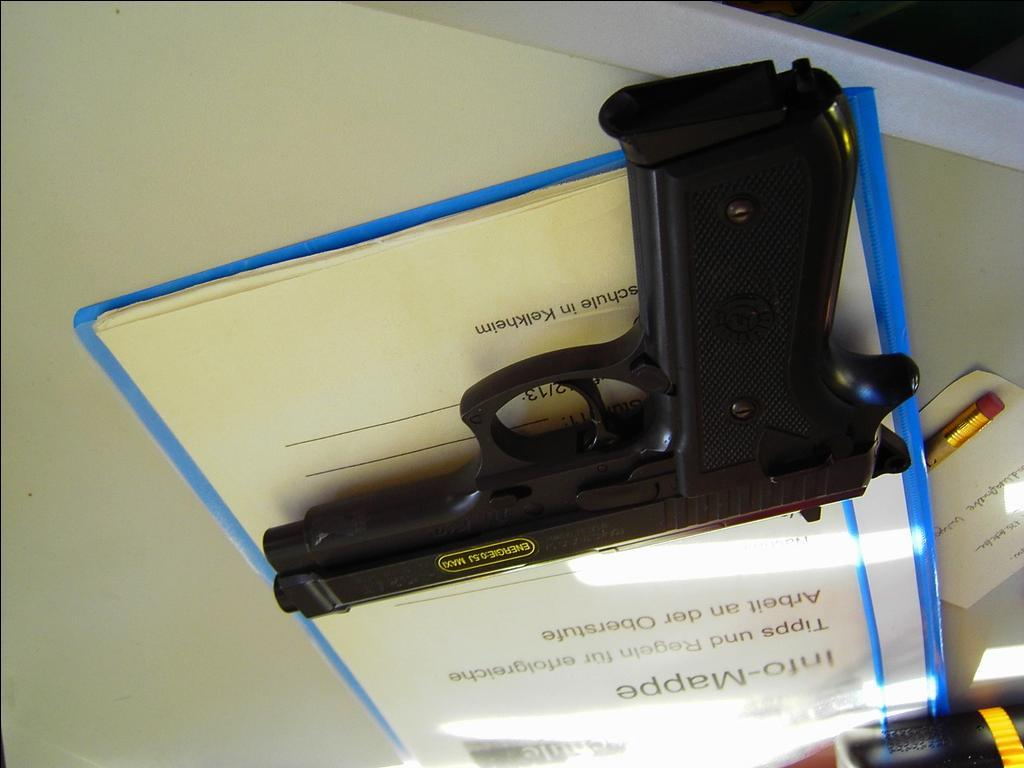gun: (258, 50, 926, 624)
